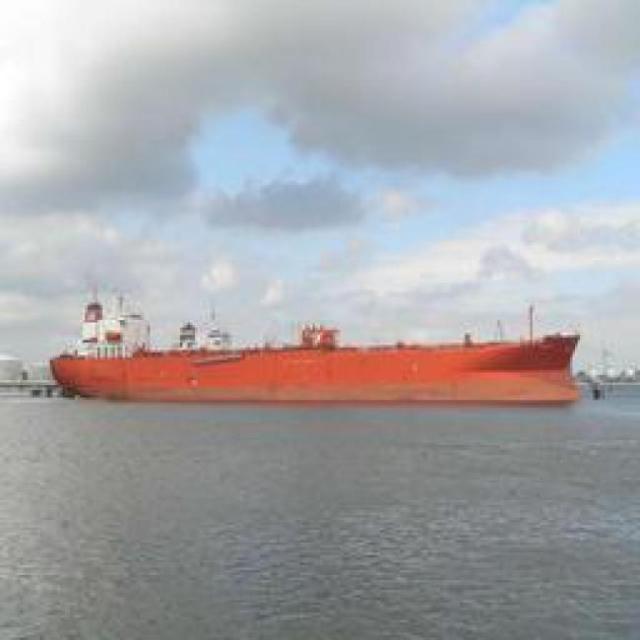boat: (49, 307, 582, 403)
